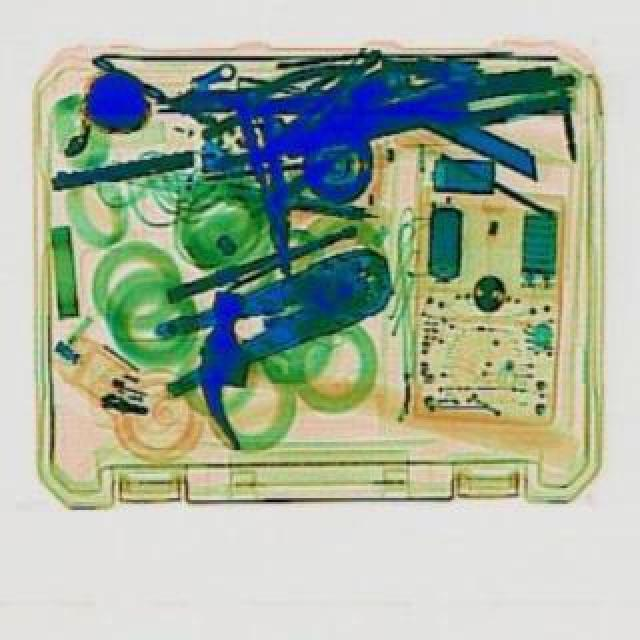wrench: (138, 232, 406, 392), (192, 66, 376, 174), (234, 90, 304, 276)
